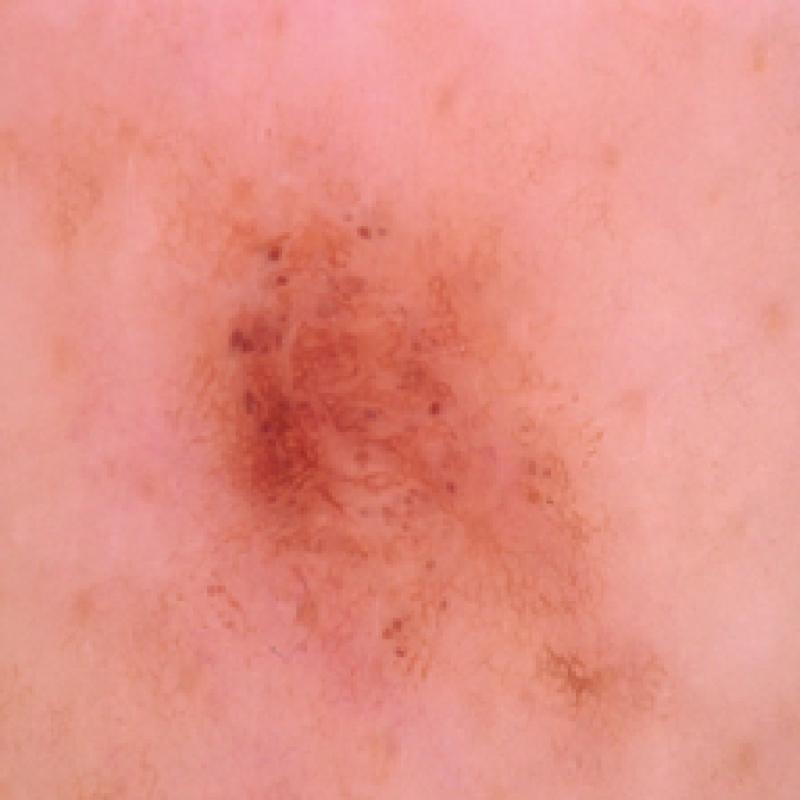benign: (158, 118, 656, 724)
